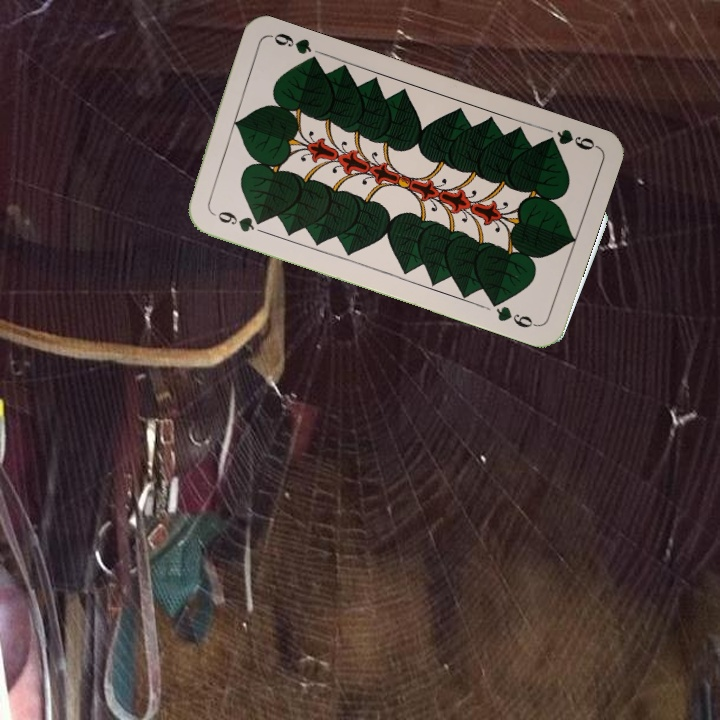G9: (539, 125, 600, 153), (213, 207, 267, 235)
